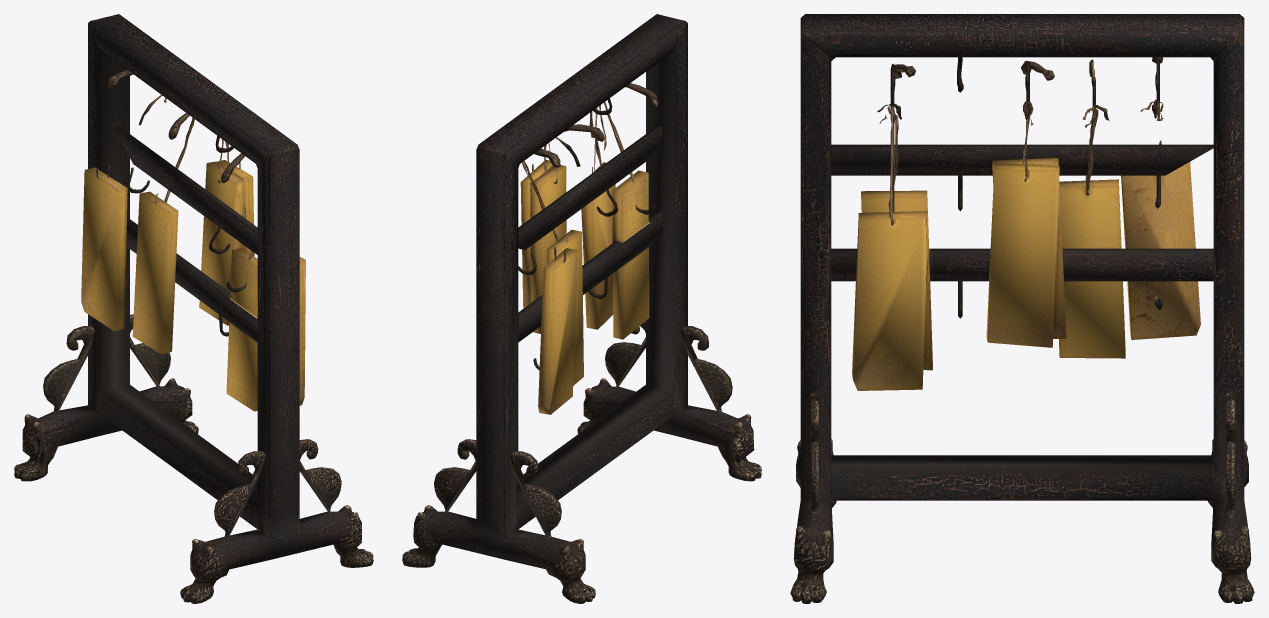
The model's file is tripo_convert_9f1fed2c-930d-41a7-987e-337f134dfc9e.fbx.
3 views of the same model, side by side, from view 1: azimuth 30°, elevation 25°; view 2: azimuth 150°, elevation 25°; view 3: azimuth 270°, elevation 25° (orthographic). The views are drawn at different scales.
Visible parts, largest first — view 1: tripo_node_9f1fed2c; view 2: tripo_node_9f1fed2c; view 3: tripo_node_9f1fed2c.
Boxes of the visible parts, x1=… form: tripo_node_9f1fed2c: x1=14, y1=14, x2=373, y2=603; tripo_node_9f1fed2c: x1=402, y1=14, x2=761, y2=603; tripo_node_9f1fed2c: x1=790, y1=14, x2=1254, y2=603.
Bounding box in the file's own units: 0.4473 × 0.998 × 0.7949.
1 material, 1 textured.
